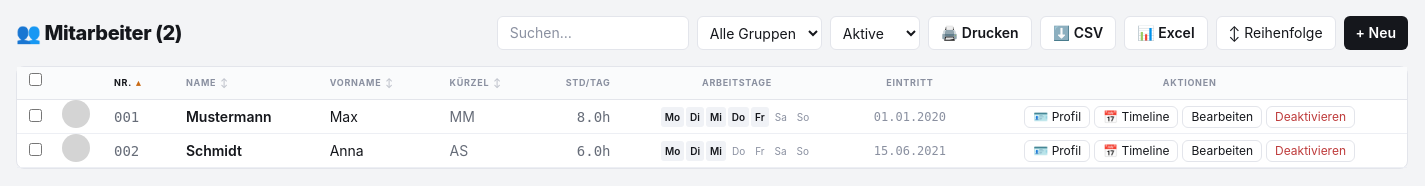
Employees page › filters employees by search input
The width and height of the screenshot is (1425, 186).
Expected: the text "Mustermann" is shown, [170, 100, 314, 134]
In the field with placeholder "Suchen…": (593, 33) [497, 16, 689, 50], type "Schmidt"
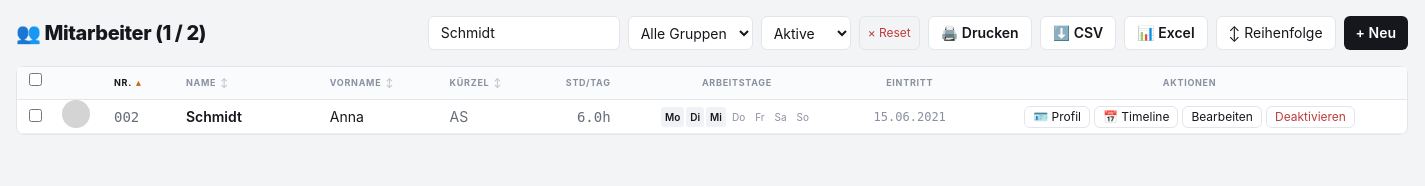
Expected: the text "Schmidt" is shown, [170, 100, 314, 134]
Expected: the text "Mustermann" is gone
